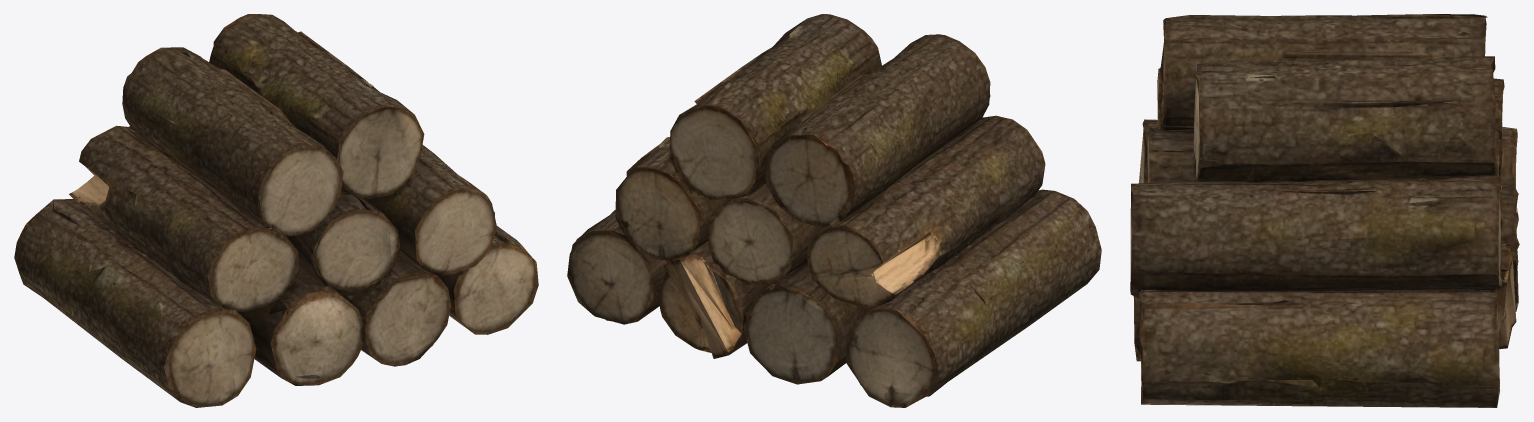
The picture shows the model from 3 angles, left to right: view 1: azimuth 30°, elevation 25°; view 2: azimuth 150°, elevation 25°; view 3: azimuth 270°, elevation 25°; orthographic projection. The views are drawn at different scales.
Parts seen in each view (by area): view 1: firewood-pile; view 2: firewood-pile; view 3: firewood-pile.
Part boxes in pixels (x1,y1,x2,y2): firewood-pile: (14,14,538,407); firewood-pile: (567,14,1101,407); firewood-pile: (1130,14,1519,407).
Size of the model in its own units: 1.14 by 0.6971 by 0.8436.
1 material, 1 textured.
